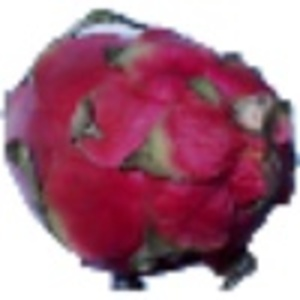pitaia: (1, 8, 300, 294)
